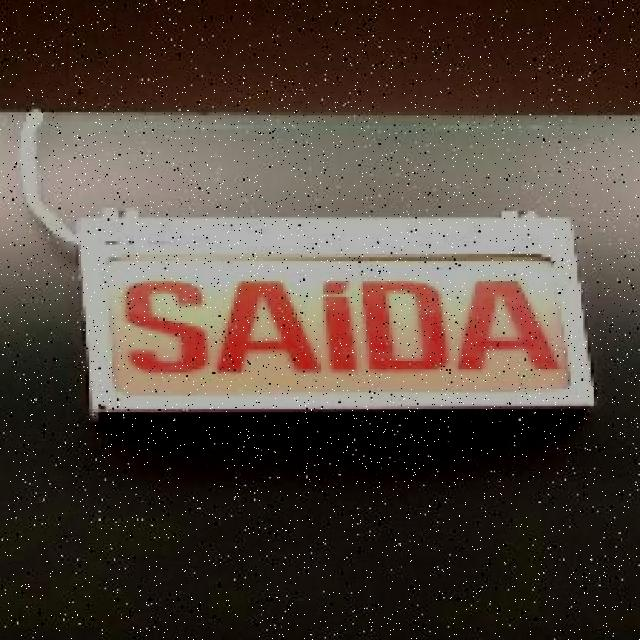emergency_exit: (77, 210, 595, 416)
